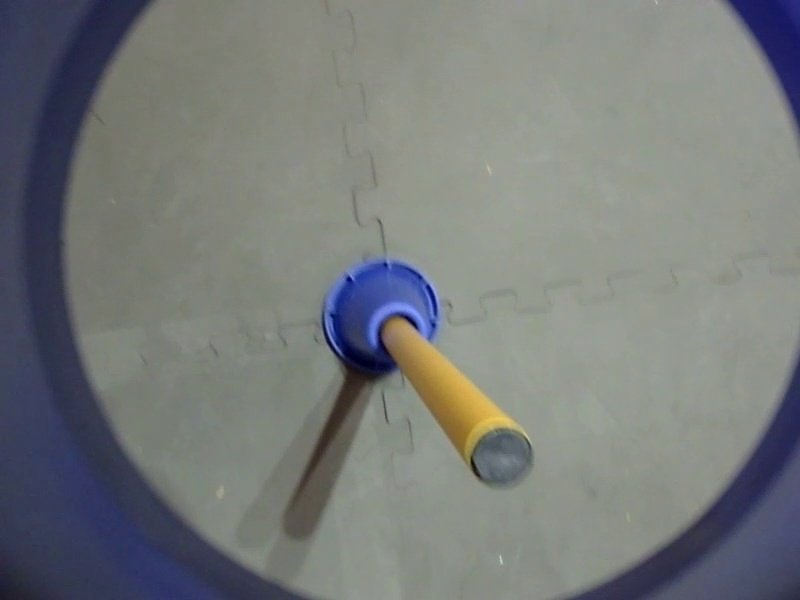tip: (464, 413, 538, 491)
